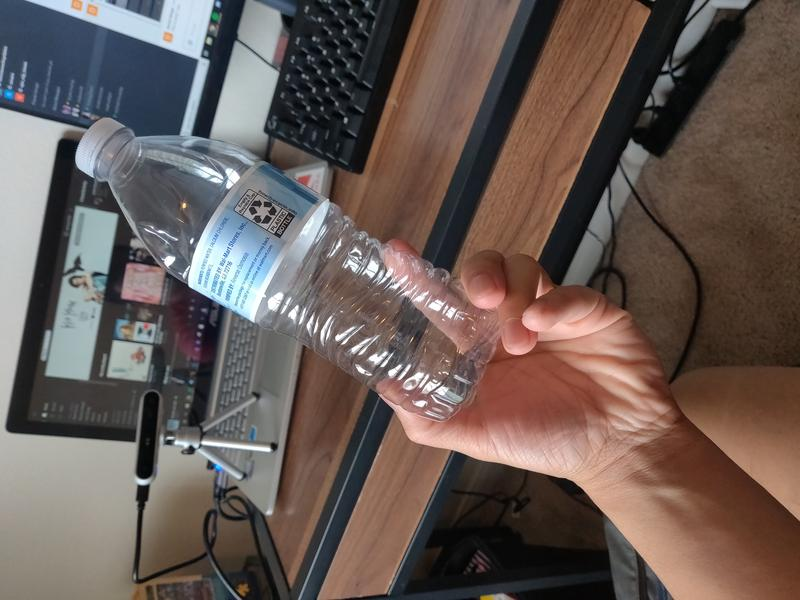bottle: (74, 117, 502, 423)
